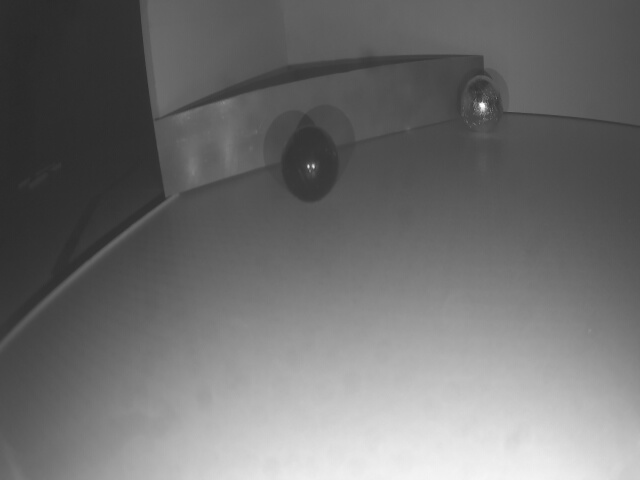Dead: (282, 128, 337, 202)
Live: (460, 76, 502, 132)
Red: (154, 56, 486, 201)
